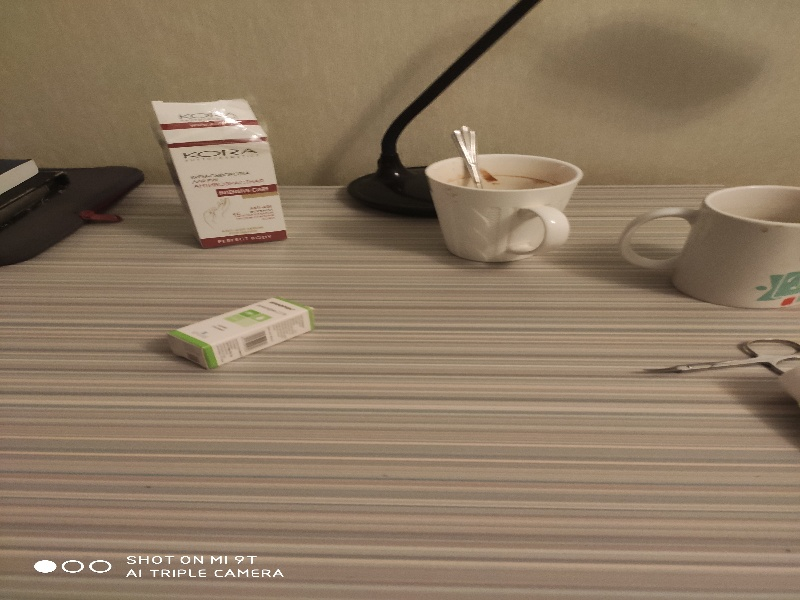ifrin: (155, 288, 318, 378)
